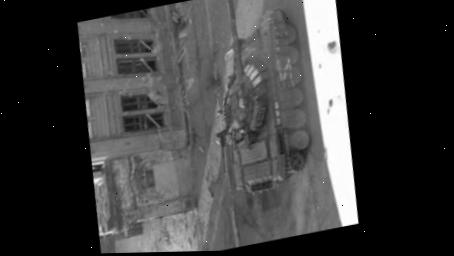tank: (187, 0, 329, 201)
